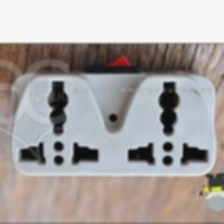three_eye_plug: (5, 67, 220, 183)
